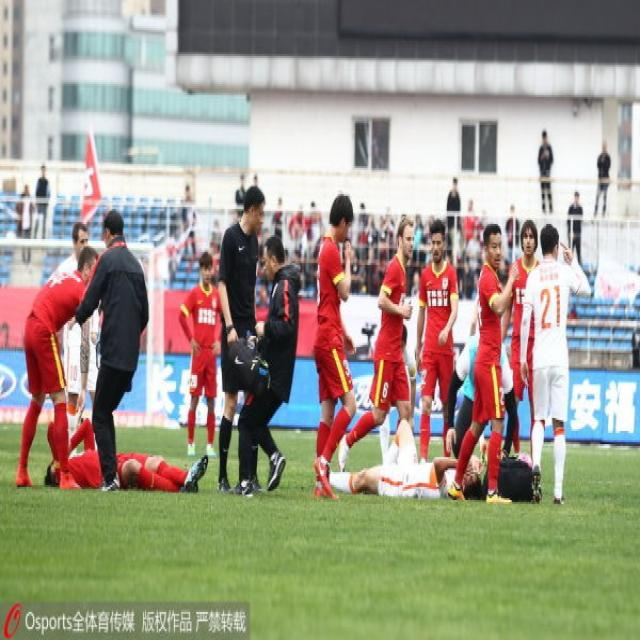10-: (5, 106, 620, 500)
down: (312, 407, 490, 508), (41, 409, 211, 496)
